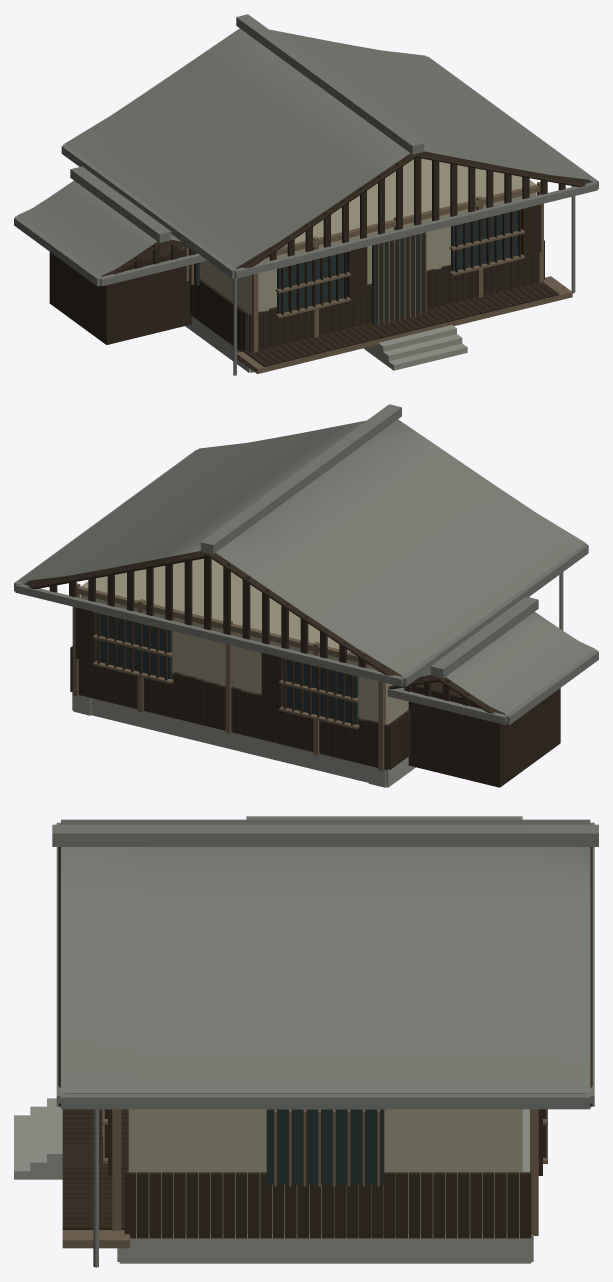
File: metal-house-low.glb
3 renders of one model, top to bottom at view 1: azimuth 30°, elevation 25°; view 2: azimuth 150°, elevation 25°; view 3: azimuth 270°, elevation 25°, orthographic. The views are drawn at different scales.
Visible parts, largest first — view 1: metal, darkwood, wood, plaster, glass, stone; view 2: metal, darkwood, plaster, stone, wood, glass; view 3: metal, darkwood, plaster, stone, glass, wood.
Boxes of the visible parts, <box> form: metal: <box>14,14,598,375</box>; darkwood: <box>49,151,588,366</box>; wood: <box>181,181,572,373</box>; plaster: <box>200,158,536,348</box>; glass: <box>185,210,517,324</box>; stone: <box>185,316,467,372</box>; metal: <box>14,404,598,724</box>; darkwood: <box>24,551,560,787</box>; plaster: <box>80,558,408,724</box>; stone: <box>72,693,415,787</box>; wood: <box>72,583,529,770</box>; glass: <box>100,614,358,724</box>; metal: <box>52,816,598,1267</box>; darkwood: <box>58,847,592,1238</box>; plaster: <box>128,1109,522,1234</box>; stone: <box>14,1098,533,1263</box>; glass: <box>266,1109,384,1184</box>; wood: <box>62,1109,547,1248</box>.
Size of the model in its own units: 13.37 by 6.05 by 9.95.
